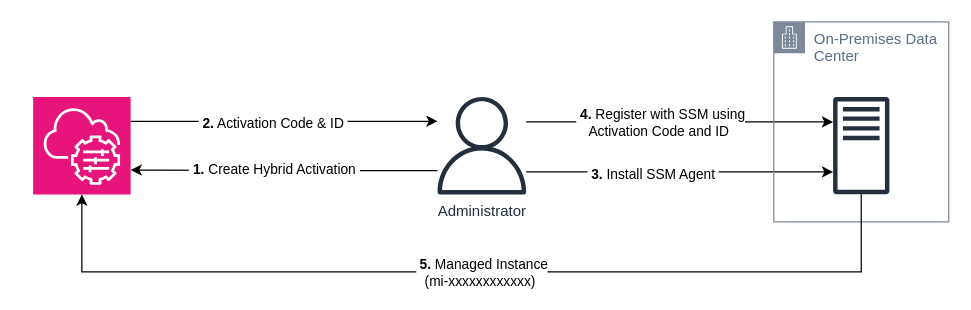
Some shapes in this 971 by 310 pixel diagram are drawn without their labels. The shapes that lost their labels are listed below. From the top down, each one's centre as x and y in pixels, then its label:
[81,145]: Systems Manager
[860,145]: Server
